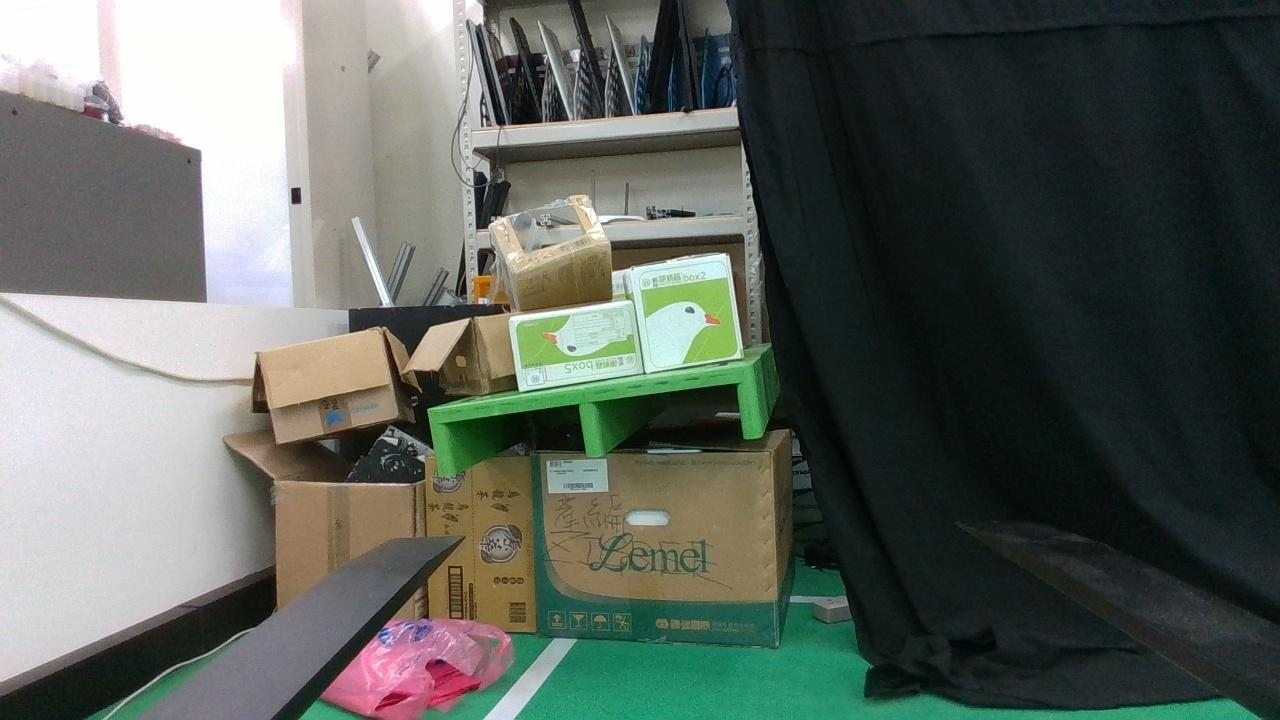Pallet: (428, 363, 762, 476)
